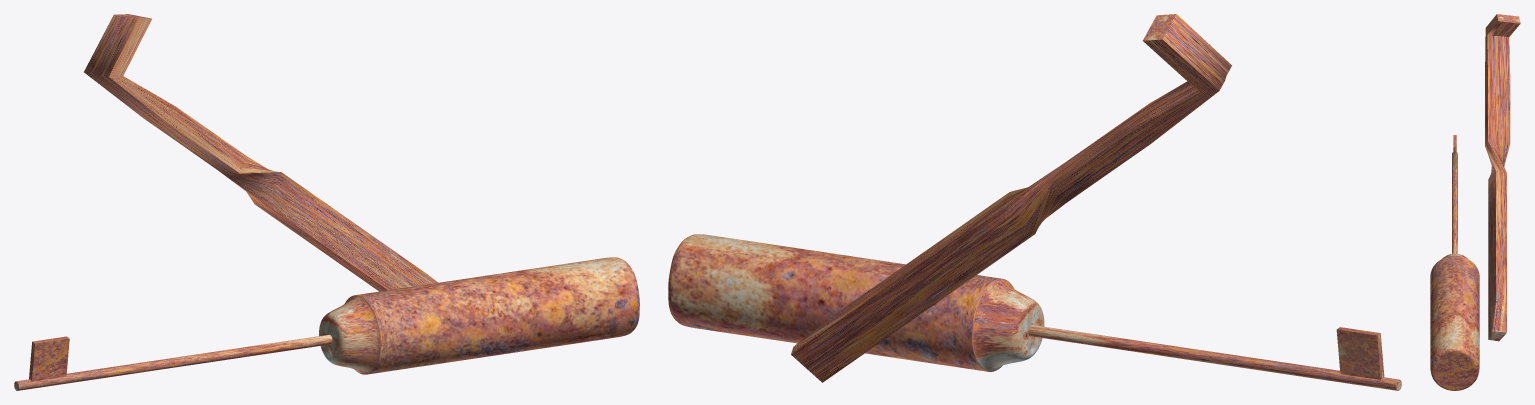
The model's file is 22079319_Assignment_Lockpick.fbx.
The picture shows the model from 3 angles, left to right: view 1: azimuth 30°, elevation 25°; view 2: azimuth 150°, elevation 25°; view 3: azimuth 270°, elevation 25°; orthographic projection. The views are drawn at different scales.
Parts seen in each view (by area): view 1: pCube4; view 2: pCube4; view 3: pCube4.
Boxes of the visible parts, x1,y1,x2,y2 form: pCube4: [14, 14, 639, 390]; pCube4: [668, 14, 1401, 390]; pCube4: [1430, 14, 1520, 390].
Bounding box in the file's own units: 18.69 × 11.63 × 3.91.
Materials: 1 (1 with a texture image).
